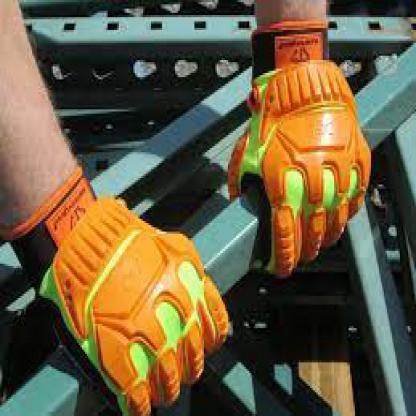with_gloves: (2, 163, 231, 414), (226, 21, 371, 276)
